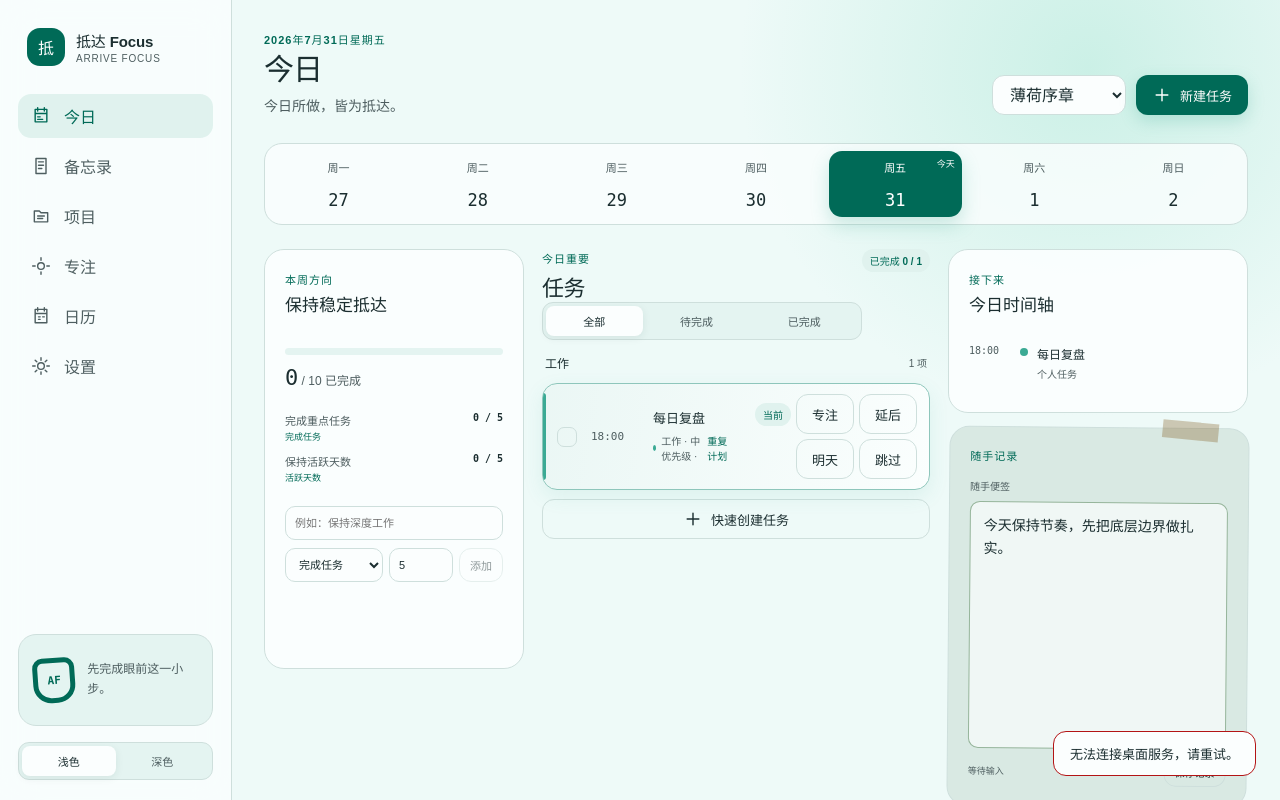
Test: App › edits recurring task content through the template task and refreshes future instances
Click the button with aria-label "打开任务：每日复盘" at {"x": 691, "y": 436}, box [653, 405, 729, 468]
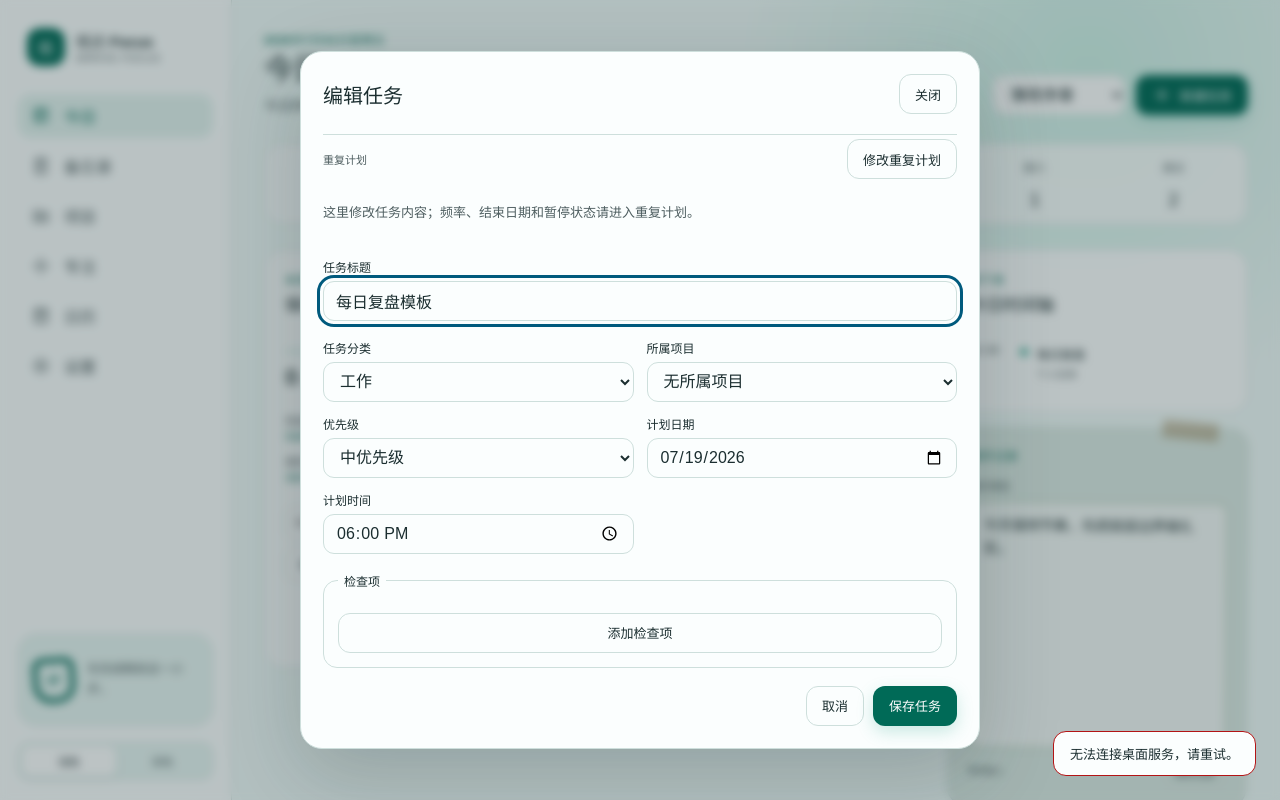
expect the text "这里修改任务内容；频率、结束日期和暂停状态请进入重复计划。" is shown: met, box [323, 205, 700, 220]
expect the button "修改重复计划" is enabled: met, box [847, 139, 957, 179]
Replace the text in the field labelled "任务标题" with "晚间复盘" at {"x": 640, "y": 301}, box [323, 281, 957, 321]
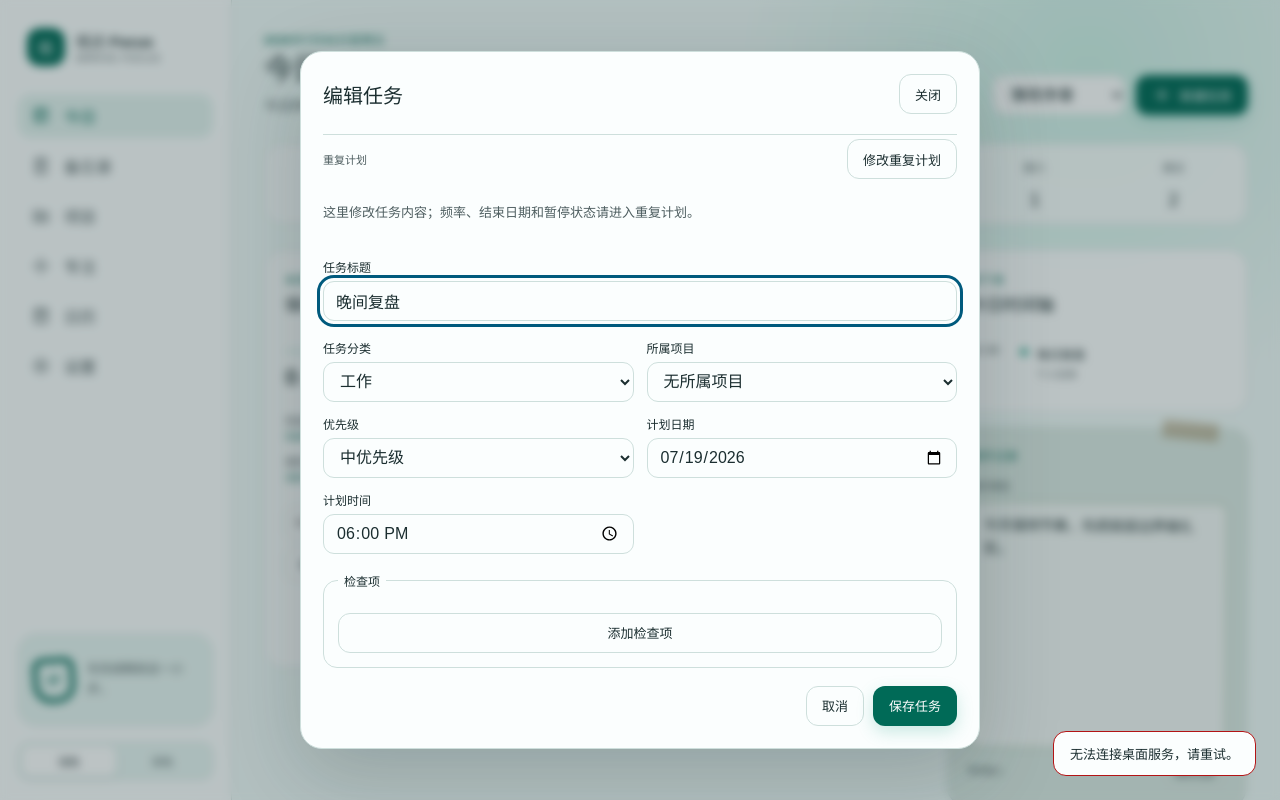
Click the button "保存任务" at {"x": 915, "y": 706}, box [873, 686, 957, 726]
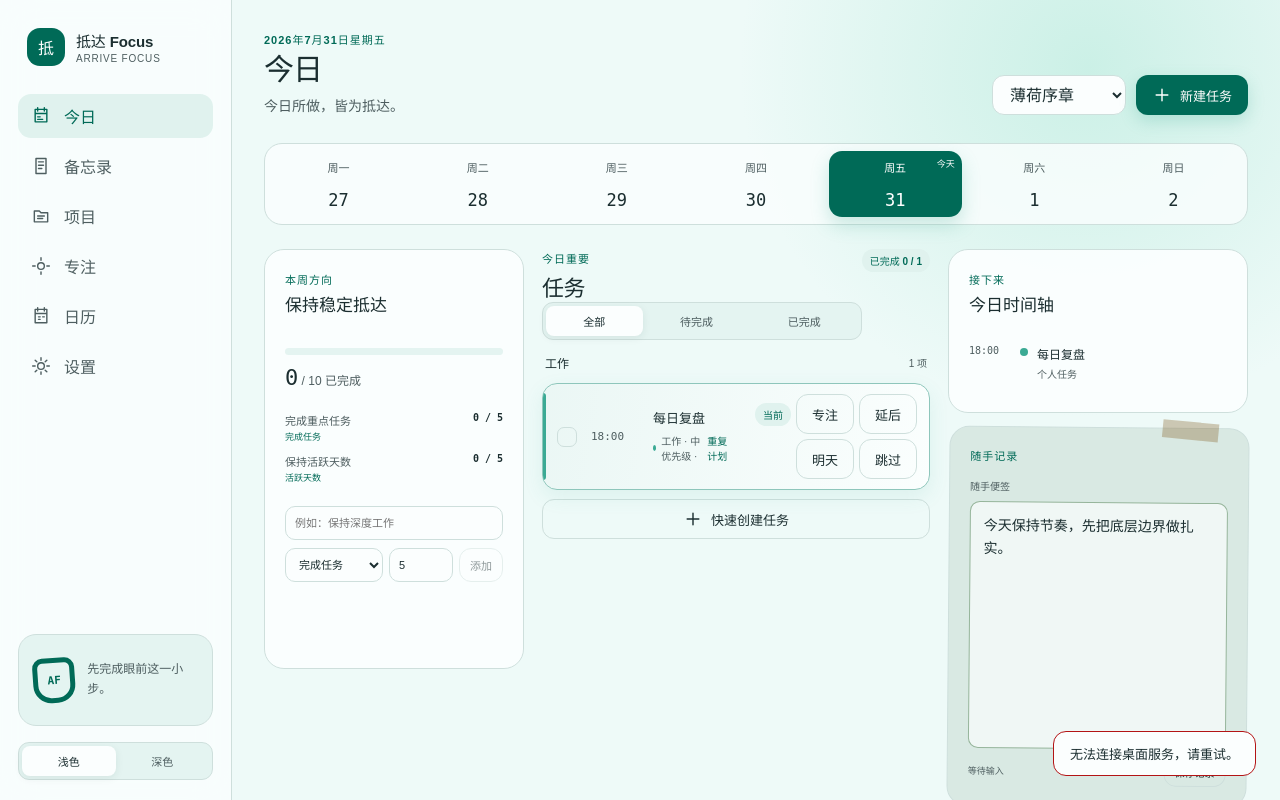
expect the heading "编辑任务" is gone: met
